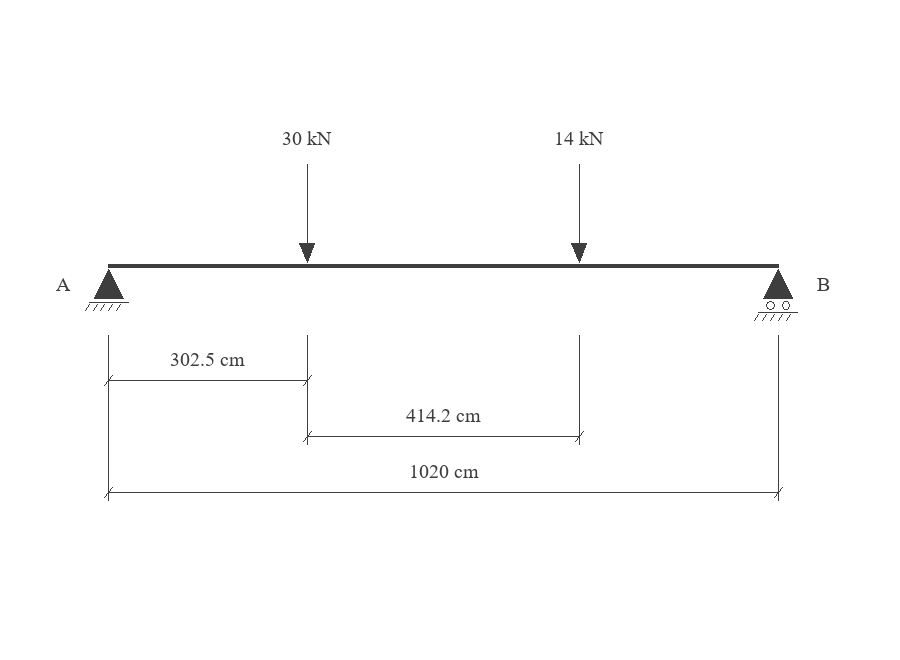pin_support: (85, 269, 129, 311)
point_load: (299, 164, 315, 263), (571, 164, 587, 263)
roller_support: (754, 269, 798, 321)
